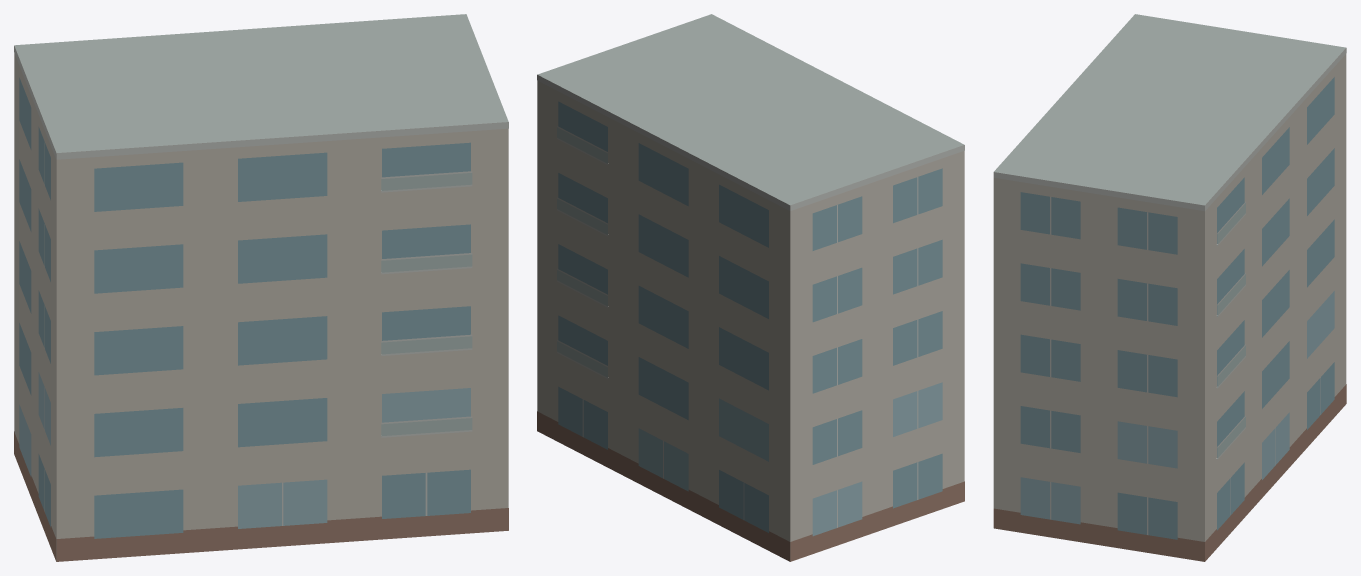
The model's file is survey-upis-32515380.glb.
3 renders of one model, left to right at view 1: azimuth 30°, elevation 25°; view 2: azimuth 150°, elevation 25°; view 3: azimuth 270°, elevation 25°, orthographic. The views are drawn at different scales.
Visible parts, largest first — view 1: survey-upis-32515380.tmp; view 2: survey-upis-32515380.tmp; view 3: survey-upis-32515380.tmp.
Boxes of the visible parts, <box> form: survey-upis-32515380.tmp: <box>14,14,508,561</box>; survey-upis-32515380.tmp: <box>537,14,964,561</box>; survey-upis-32515380.tmp: <box>993,14,1346,561</box>.
Size of the model in its own units: 17.28 by 14.99 by 13.46.
